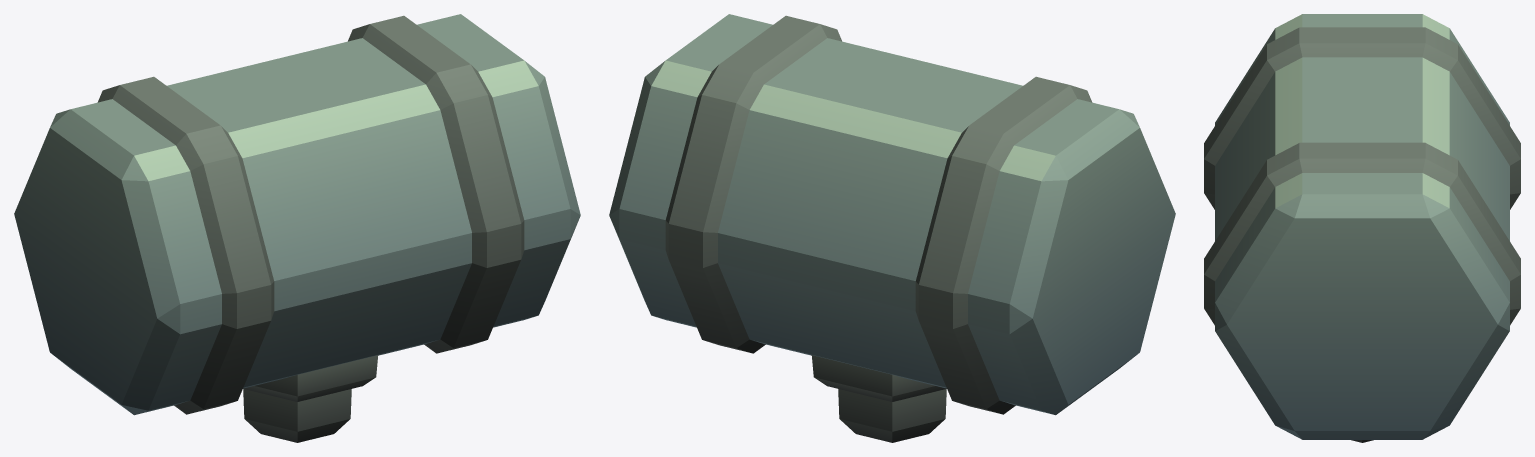
File: hammer-head_003.fbx
3 renders of one model, left to right at view 1: azimuth 30°, elevation 25°; view 2: azimuth 150°, elevation 25°; view 3: azimuth 270°, elevation 25°, orthographic. The views are drawn at different scales.
Parts seen in each view (by area): view 1: hammer-head.003; view 2: hammer-head.003; view 3: hammer-head.003.
Boxes of the visible parts, x1,y1,x2,y2 form: hammer-head.003: (14, 14, 580, 442); hammer-head.003: (609, 14, 1175, 442); hammer-head.003: (1204, 14, 1520, 442).
Size of the model in its own units: 42.86 by 33.93 by 29.36.
